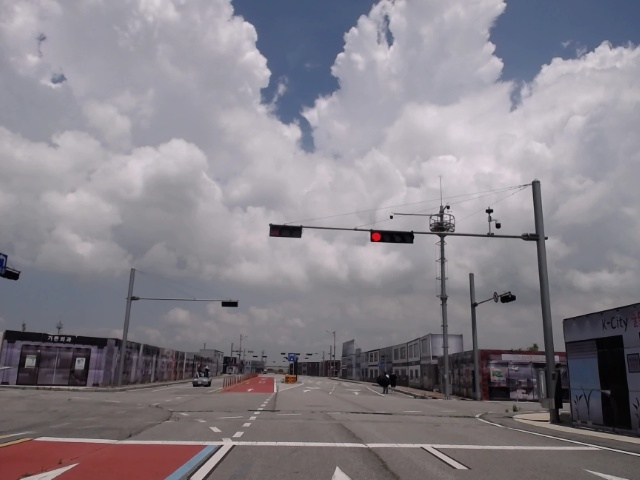red_4: (370, 231, 414, 244)
